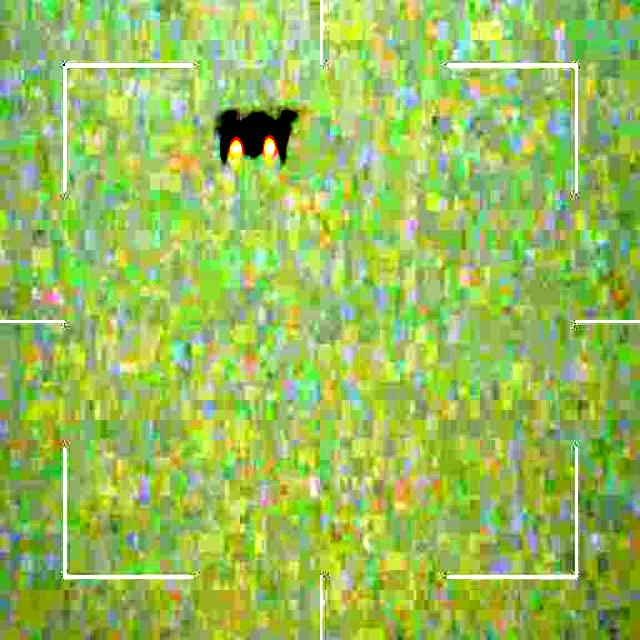bird: (212, 105, 300, 162)
